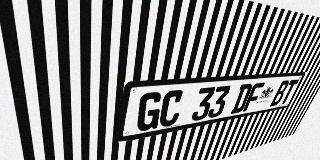3: (190, 87, 216, 122), (207, 85, 231, 119)
B: (270, 80, 290, 106)
C: (158, 89, 185, 128)
D: (230, 83, 254, 114)
F: (243, 82, 265, 112)
G: (135, 91, 164, 132)
T: (279, 79, 299, 105)
